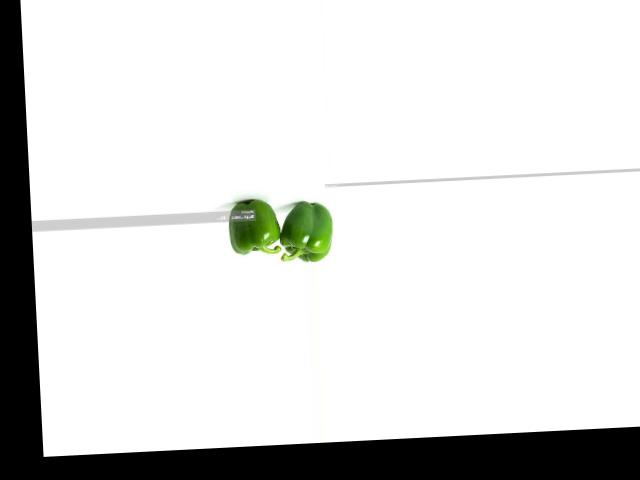bell_pepper: (278, 191, 334, 267)
